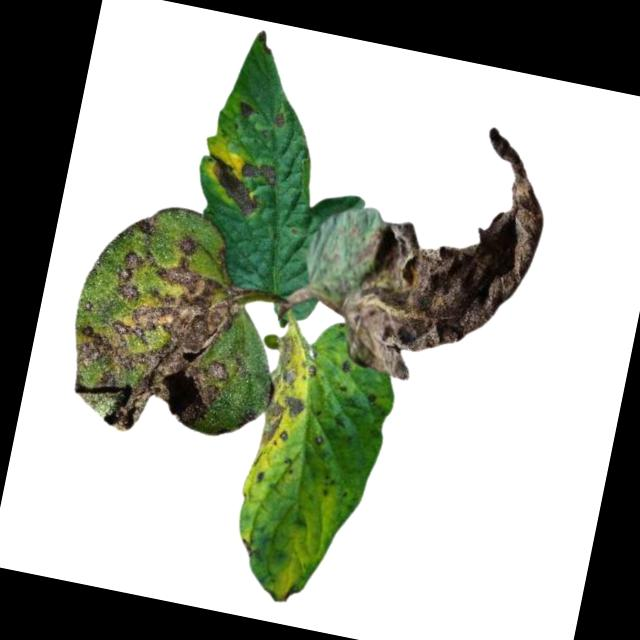Early_blight: (324, 101, 563, 402), (53, 214, 262, 455), (251, 323, 316, 459), (202, 152, 268, 217), (239, 154, 283, 188), (262, 576, 301, 605), (270, 106, 291, 130), (236, 99, 255, 120)
